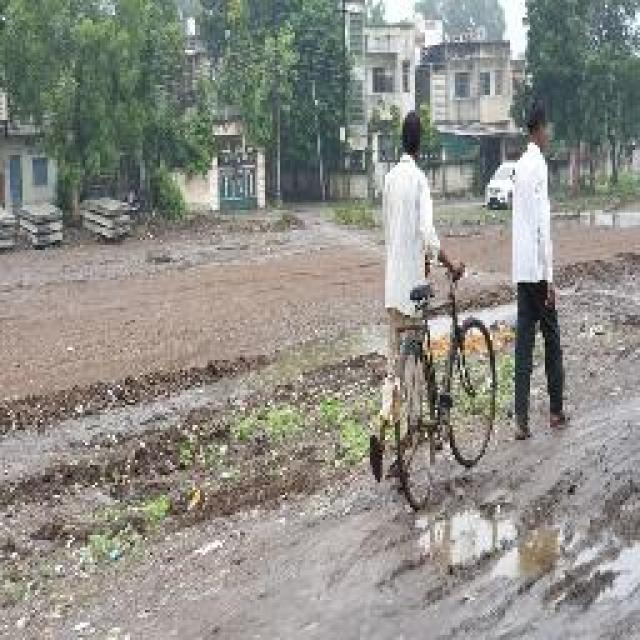waterlogging: (439, 506, 640, 640)
